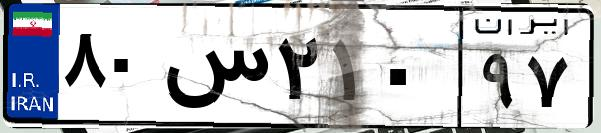0: (385, 28, 445, 110), (110, 28, 158, 98)
1: (330, 28, 385, 110)
2: (270, 28, 330, 110)
7: (525, 38, 570, 115)
8: (57, 26, 110, 100)
9: (475, 38, 525, 113)
س: (158, 20, 270, 120)
